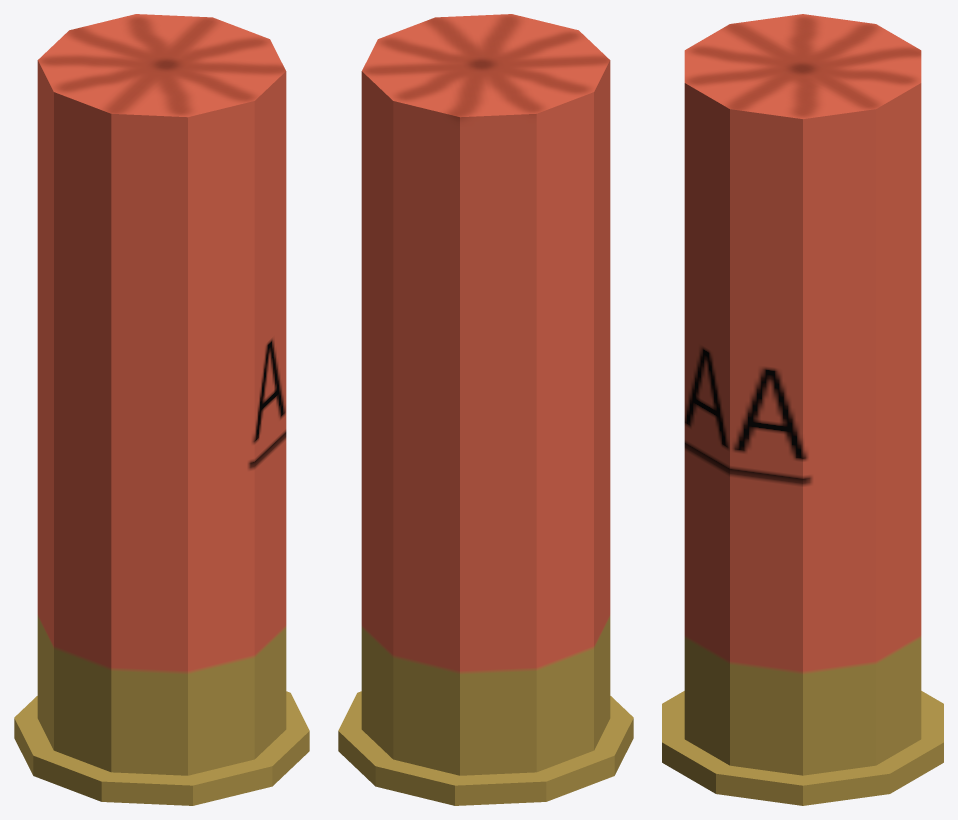
Rendered from ShotgunShell.fbx.
The picture shows the model from 3 angles, left to right: view 1: azimuth 30°, elevation 25°; view 2: azimuth 150°, elevation 25°; view 3: azimuth 270°, elevation 25°; orthographic projection.
Parts seen in each view (by area): view 1: ShotgunShell:pCylinder1; view 2: ShotgunShell:pCylinder1; view 3: ShotgunShell:pCylinder1.
Boxes of the visible parts, bbox=[...] form: ShotgunShell:pCylinder1: bbox=[14, 14, 309, 805]; ShotgunShell:pCylinder1: bbox=[338, 14, 633, 805]; ShotgunShell:pCylinder1: bbox=[662, 14, 943, 805].
Size of the model in its own units: 1.19 by 3 by 1.13.
